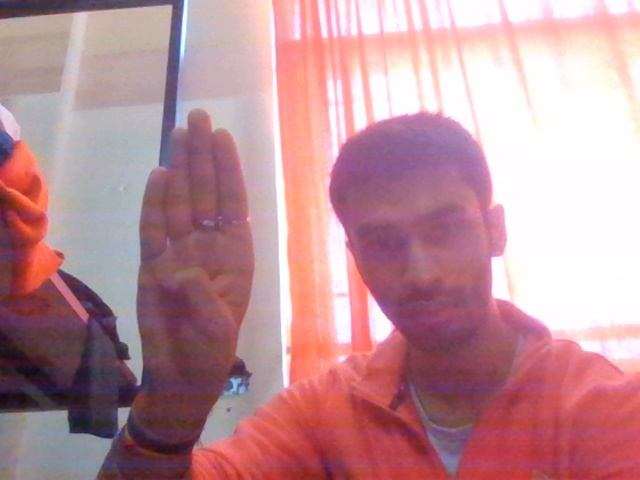B: (115, 98, 280, 403)
